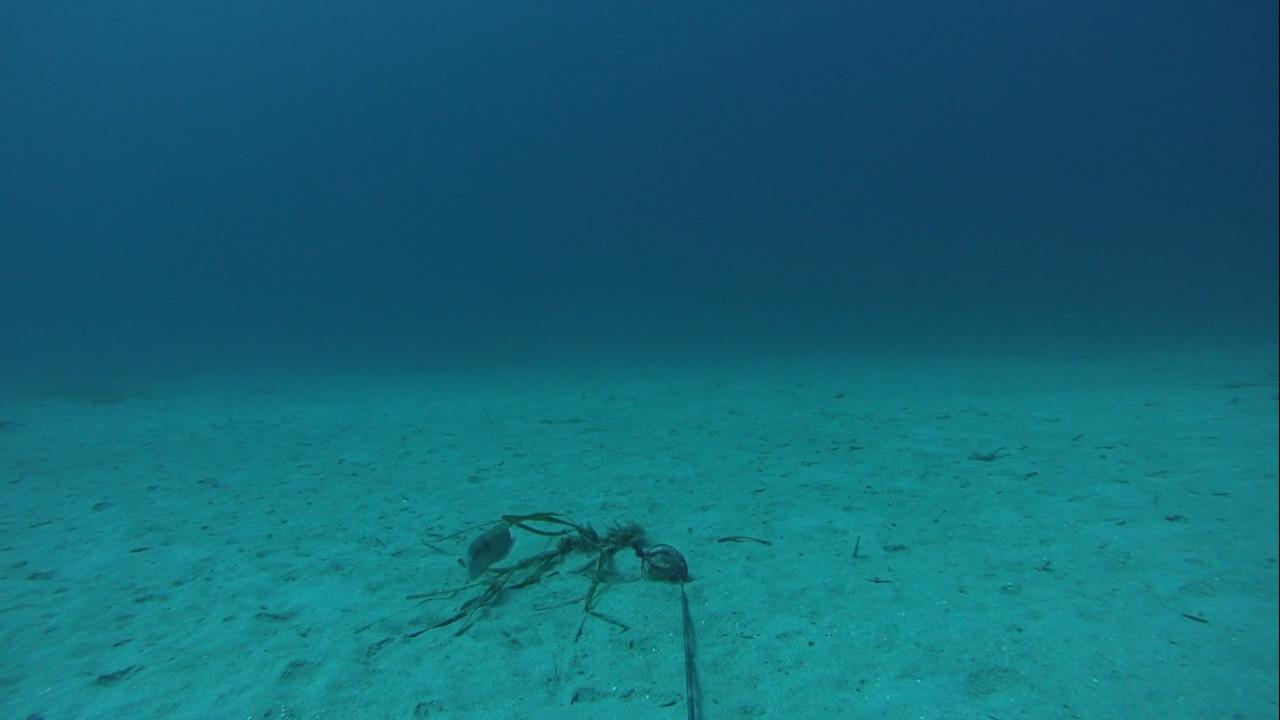raor: (460, 512, 519, 582)
